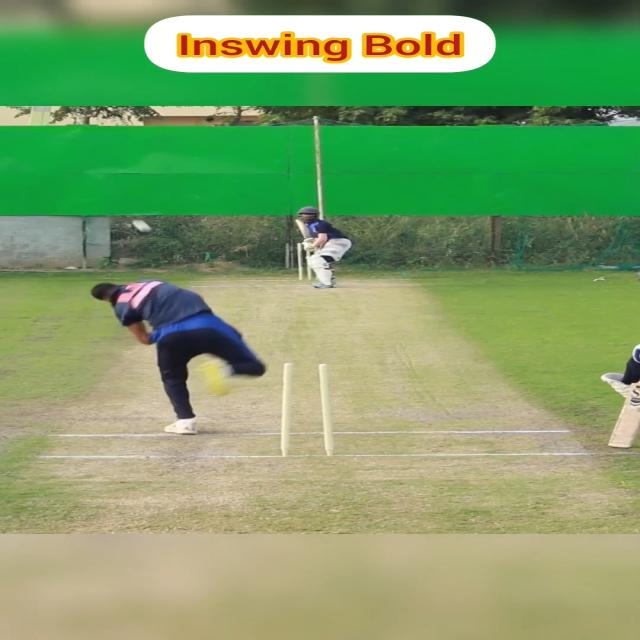ball: (131, 220, 154, 233)
stump: (273, 362, 339, 458)
